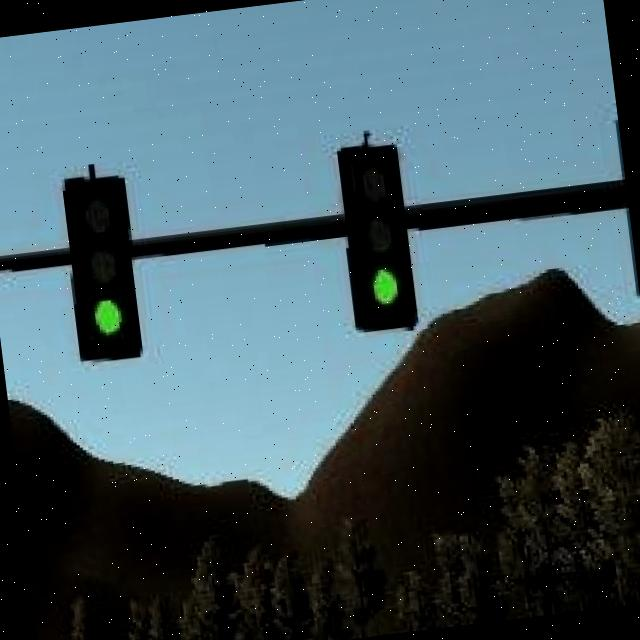Zielone swiatlo: (60, 169, 144, 364), (334, 144, 418, 332)
